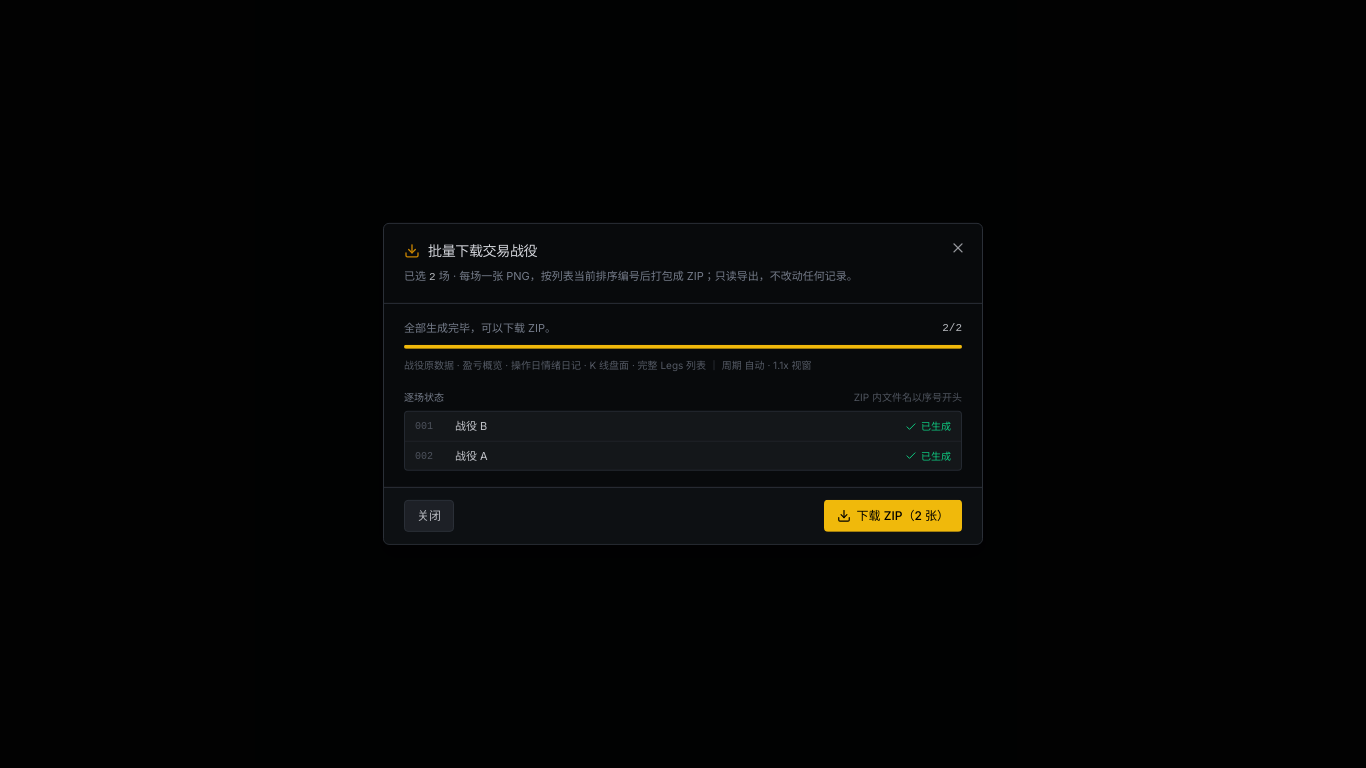
批量下载队列 › 打包失败后可以直接重新下载，不重新生成图片
Earlier steps of the test are not shown.
Later steps or results of the test are not shown.
Click the button "下载 ZIP（2 张）": (893, 516) [824,500,962,532]
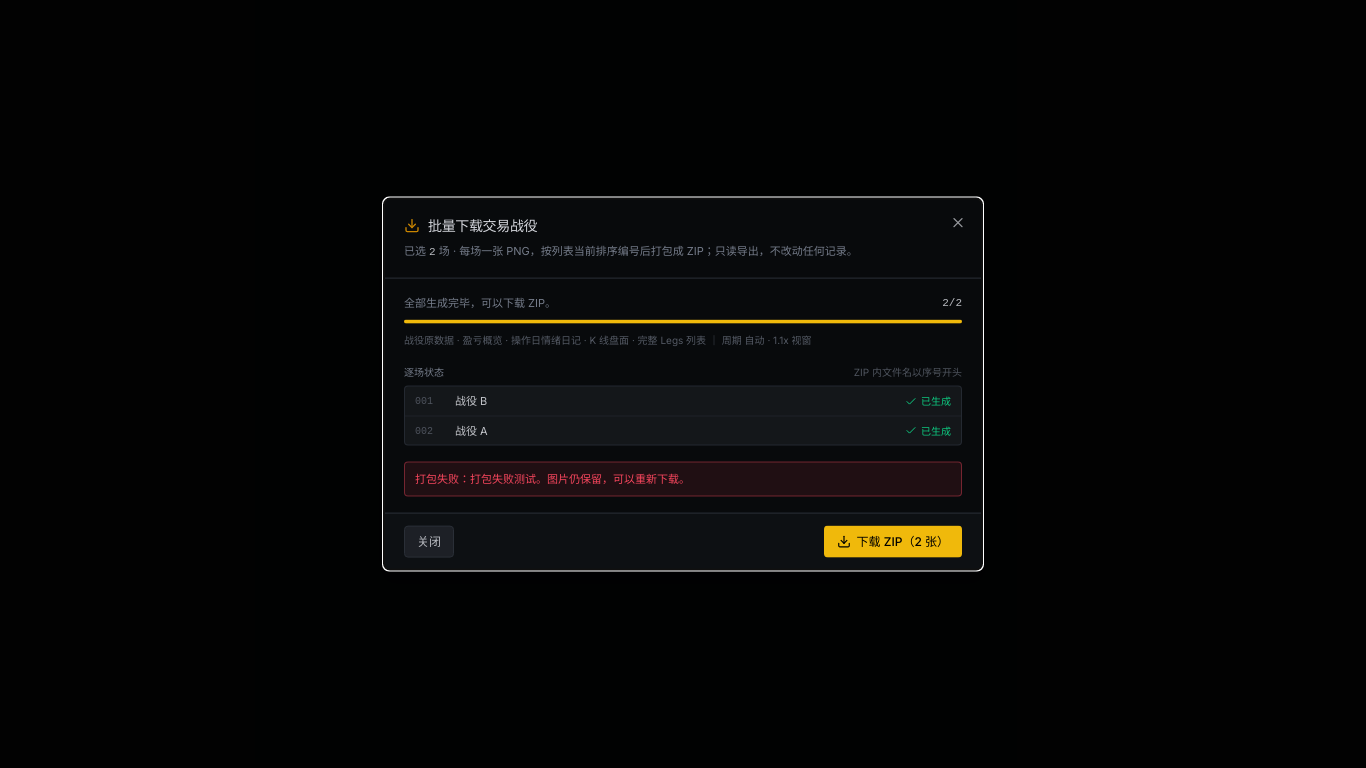
Result: the message "打包失败：打包失败测试。图片仍保留，可以重新下载。" is shown at [404,462,962,496]
